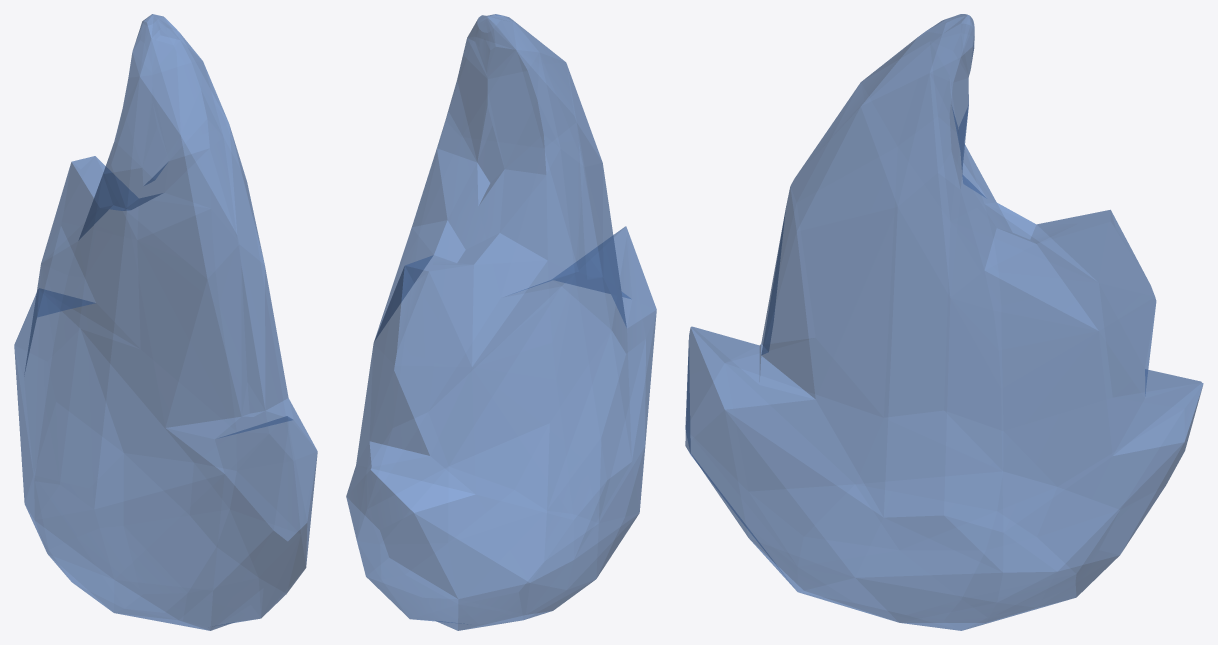
Rendered from Fire.fbx.
3 views of the same model, side by side, from view 1: azimuth 30°, elevation 25°; view 2: azimuth 150°, elevation 25°; view 3: azimuth 270°, elevation 25° (orthographic). The views are drawn at different scales.
Visible parts, largest first — view 1: Fire; view 2: Fire; view 3: Fire.
Part boxes in pixels (x1=…): Fire: x1=14, y1=14, x2=317, y2=630; Fire: x1=346, y1=14, x2=656, y2=630; Fire: x1=685, y1=14, x2=1203, y2=630.
Bounding box in the file's own units: 1.92 × 5.16 × 4.
